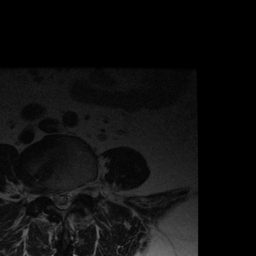CCS_normal: (58, 184, 66, 214)
LFS_normal: (74, 178, 82, 201)
LLS_normal: (66, 183, 73, 209)
RFS_normal: (43, 182, 51, 204)
RLS_normal: (51, 184, 58, 208)
